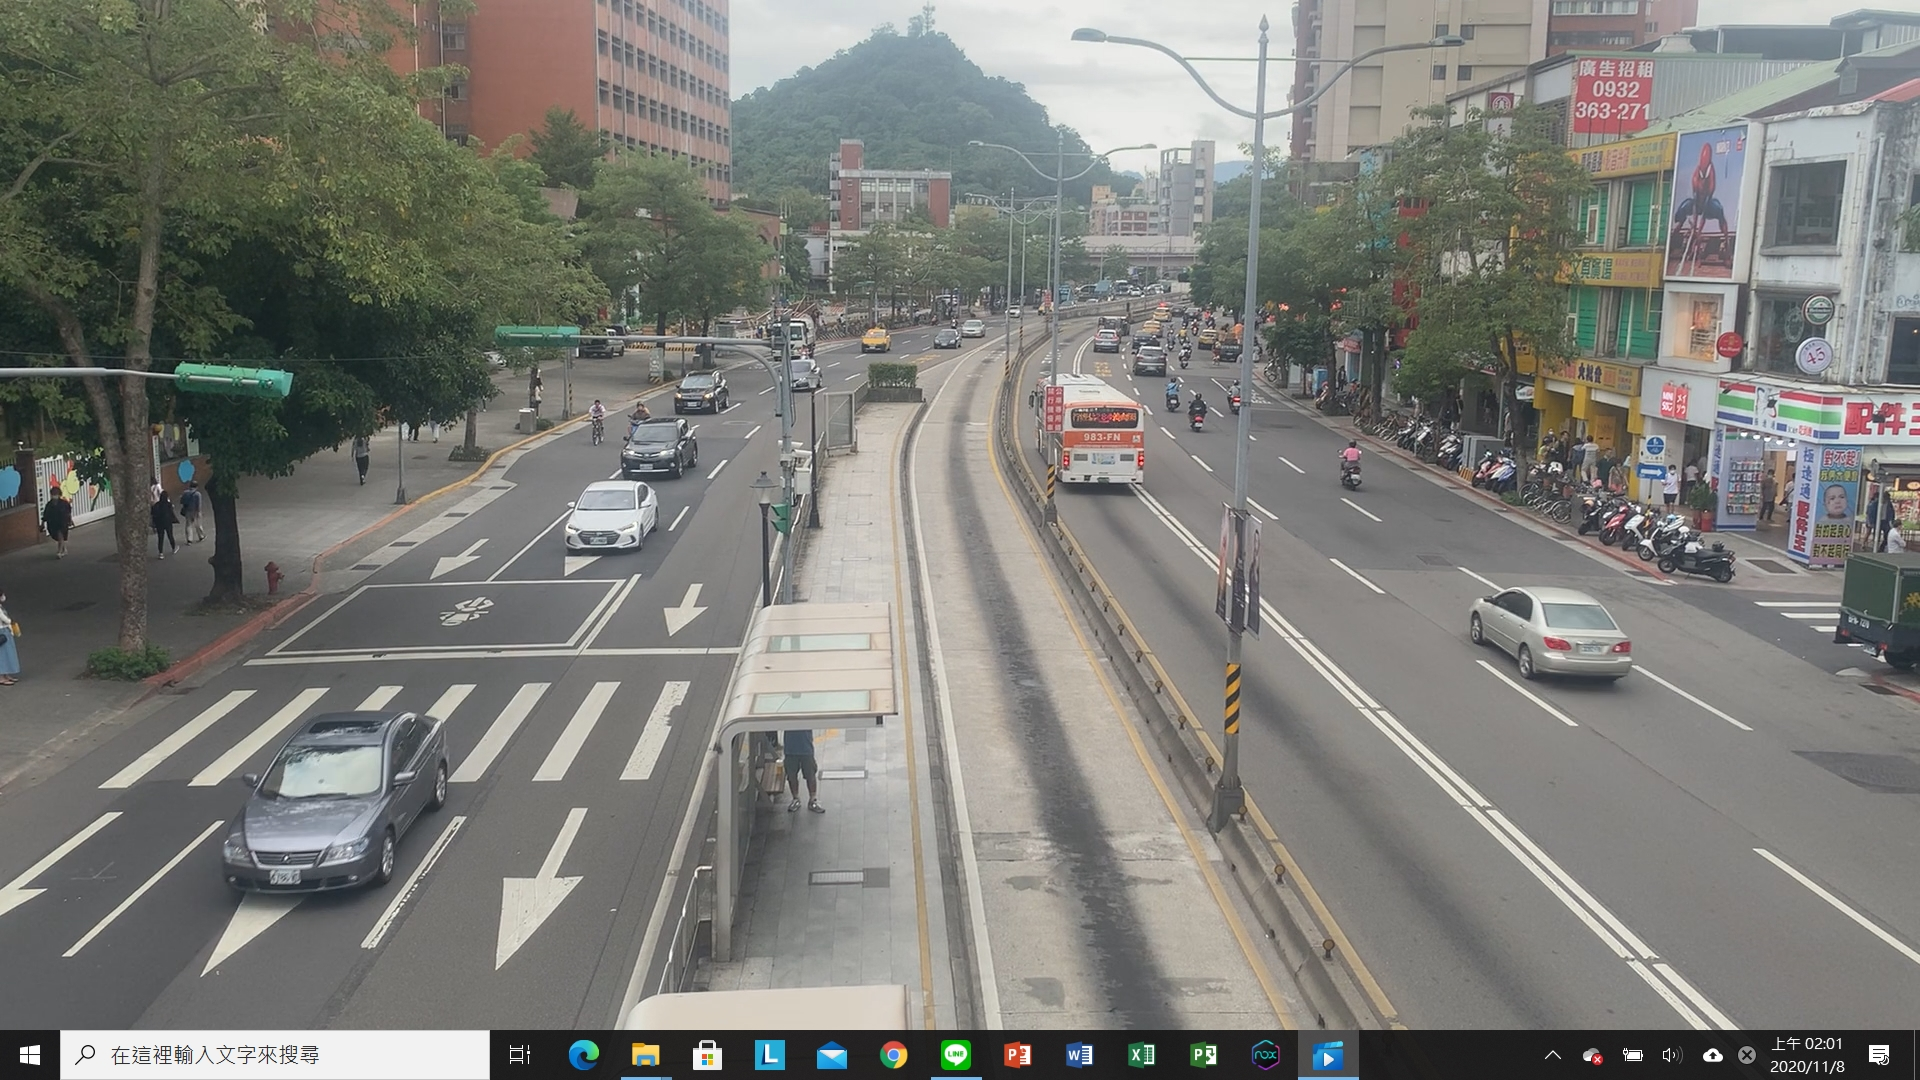Bus: (1034, 375, 1141, 491)
Business Passenger Car: (860, 320, 891, 360)
Motorcycle: (1336, 440, 1369, 487), (1183, 394, 1212, 431), (1160, 373, 1183, 414)
Private Passenger Car: (240, 713, 427, 903), (1469, 587, 1627, 682), (564, 477, 654, 554), (620, 414, 700, 485), (674, 363, 732, 414), (781, 353, 822, 393), (1131, 347, 1167, 376), (934, 324, 960, 351), (1095, 327, 1118, 353)
